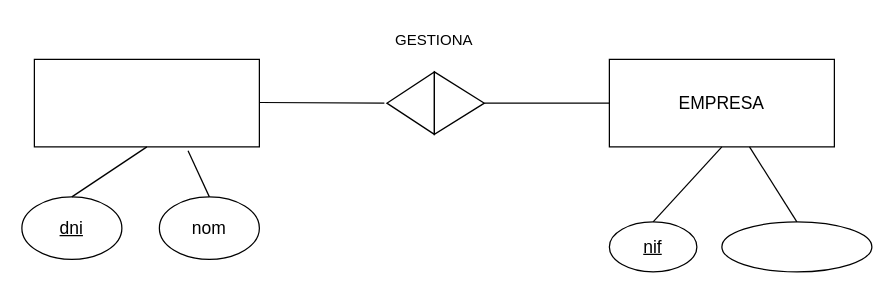
This 894x294 diagram has some shape labels left out. The shapes that lost their labels are listed below. From the top down, each one's box as (x1, y1, x2, y2) in pixels, then its label:
(33, 58, 259, 147): GERENT
(721, 221, 872, 272): denominació
